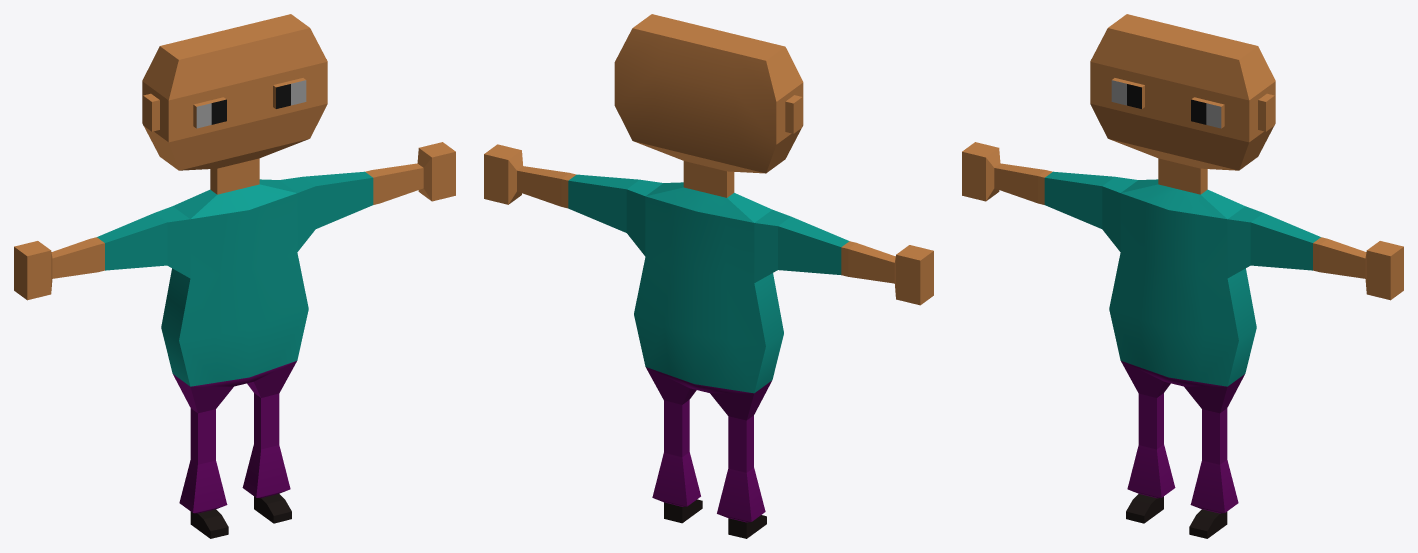
The model's file is Character.fbx.
3 renders of one model, left to right at view 1: azimuth 30°, elevation 25°; view 2: azimuth 150°, elevation 25°; view 3: azimuth 330°, elevation 25°, orthographic.
Parts seen in each view (by area): view 1: character; view 2: character; view 3: character.
Boxes of the visible parts, <box> form: character: <box>14,14,455,538</box>; character: <box>484,14,933,538</box>; character: <box>962,14,1403,538</box>.
Bounding box in the file's own units: 8.01 × 8.58 × 0.9948.
